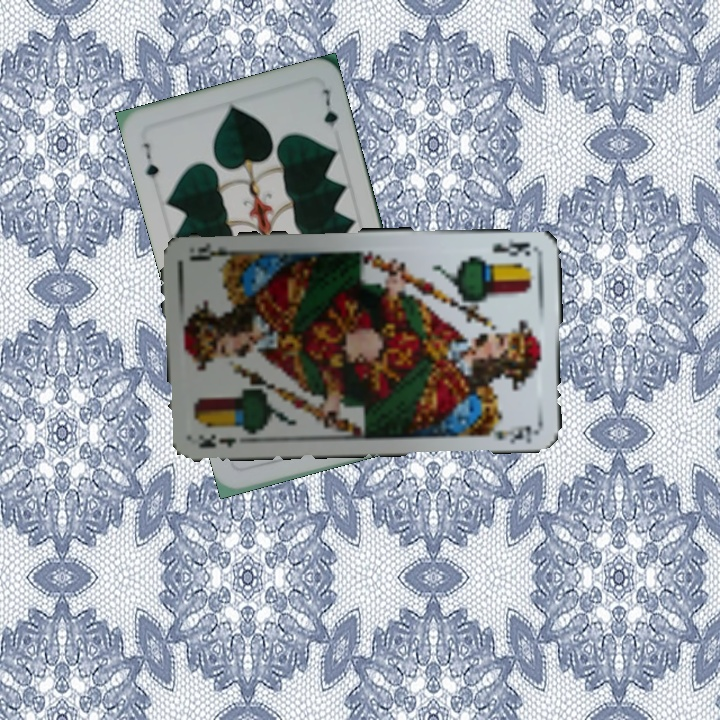EK: (489, 236, 533, 258), (194, 431, 238, 451)
G7: (139, 138, 162, 181)
